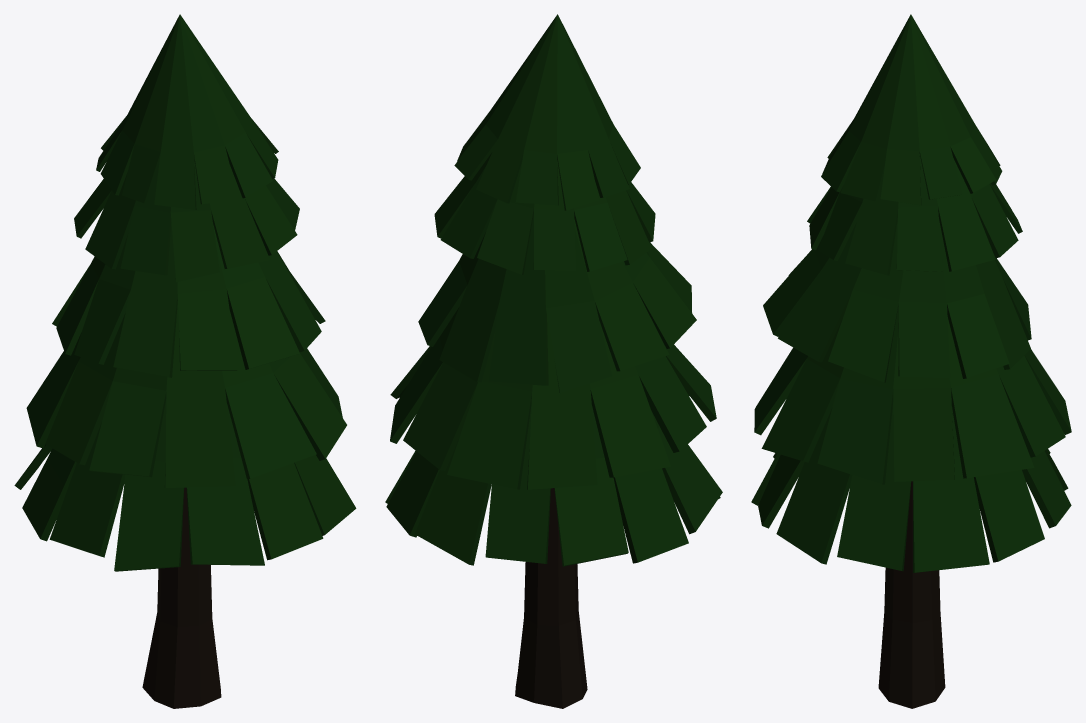
The model's file is tall_pine_tree3.obj.
The picture shows the model from 3 angles, left to right: view 1: azimuth 30°, elevation 25°; view 2: azimuth 150°, elevation 25°; view 3: azimuth 270°, elevation 25°; orthographic projection.
Visible parts, largest first — view 1: Tree3_2.001_Cylinder.025; view 2: Tree3_2.001_Cylinder.025; view 3: Tree3_2.001_Cylinder.025.
Part boxes in pixels (<box>): Tree3_2.001_Cylinder.025: <box>14,14,356,708</box>; Tree3_2.001_Cylinder.025: <box>385,14,722,708</box>; Tree3_2.001_Cylinder.025: <box>751,14,1071,708</box>.
Bounding box in the file's own units: 3.6 × 8.23 × 3.55.
